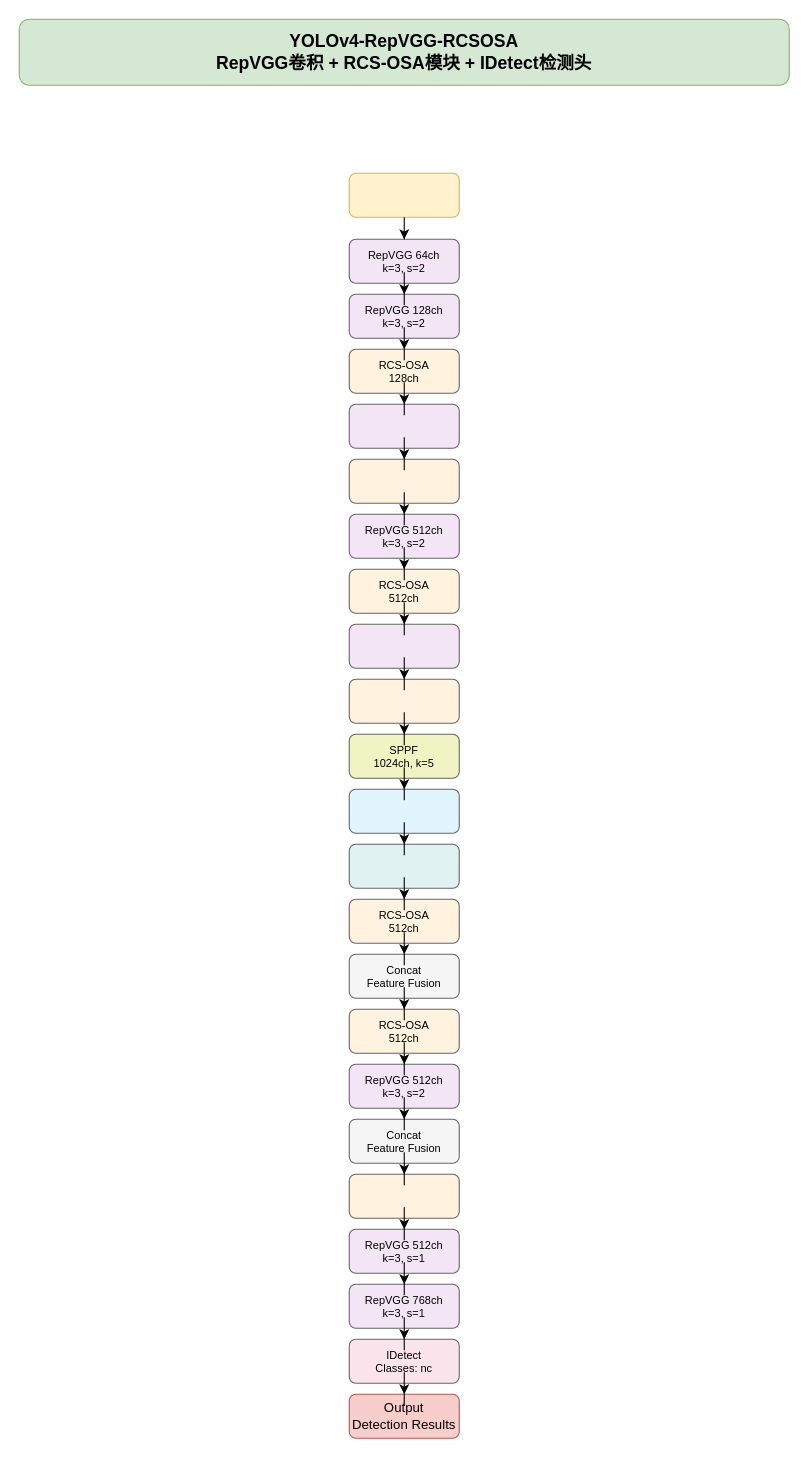
Some shapes in this 809 by 1458 pixel diagram are drawn without their labels. Each missing label, with the centre of its shape:
Conv 512ch k=1, s=1: pixel 403 810
Input Image 640×640×3: pixel 403 194
RCS-OSA 1024ch: pixel 403 700
RCS-OSA 256ch: pixel 403 480
RCS-OSA 768ch: pixel 403 1195
RepVGG 1024ch k=3, s=2: pixel 403 645
RepVGG 256ch k=3, s=2: pixel 403 425
Upsample ×2: pixel 403 865
